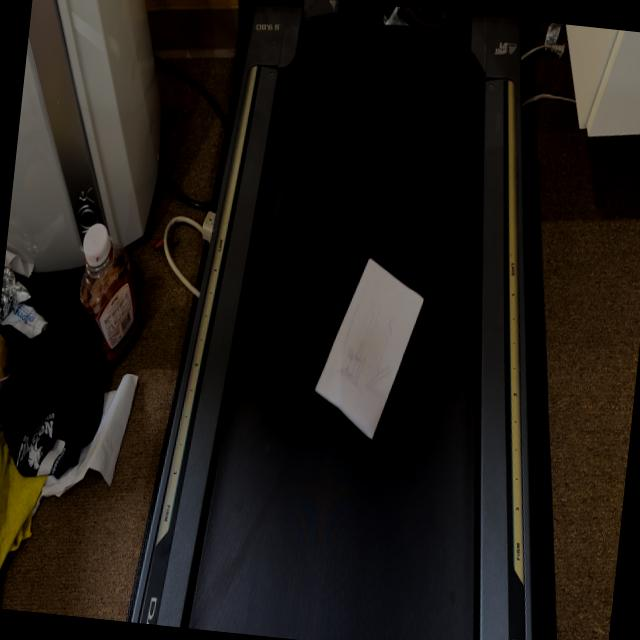Recycle: (310, 251, 430, 450)
